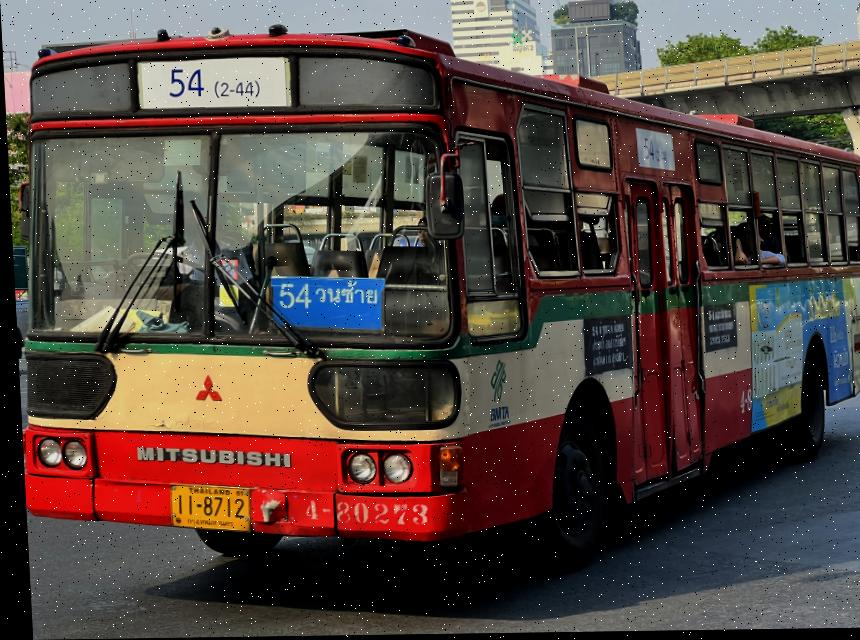BMTA-bus: (17, 29, 860, 576)
Bus Line Number: (137, 56, 289, 112)
Bus Side Number: (291, 494, 423, 537)
Destination Sign: (265, 267, 385, 339)
